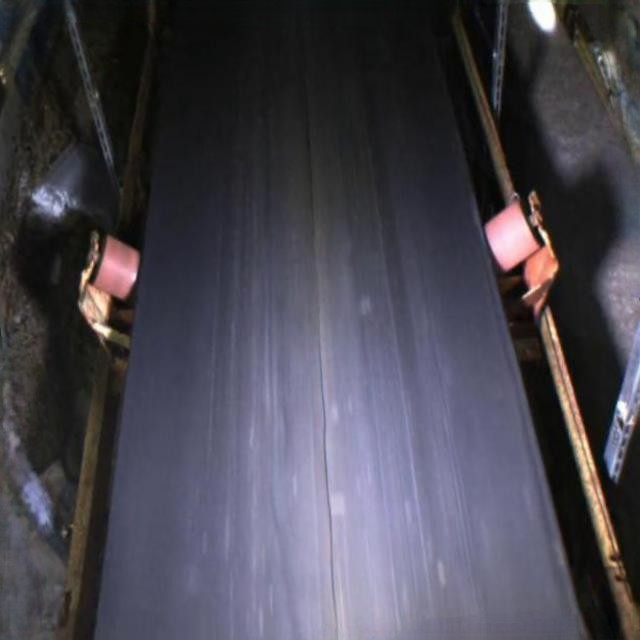Tear: (310, 319, 344, 640), (292, 27, 324, 248)
